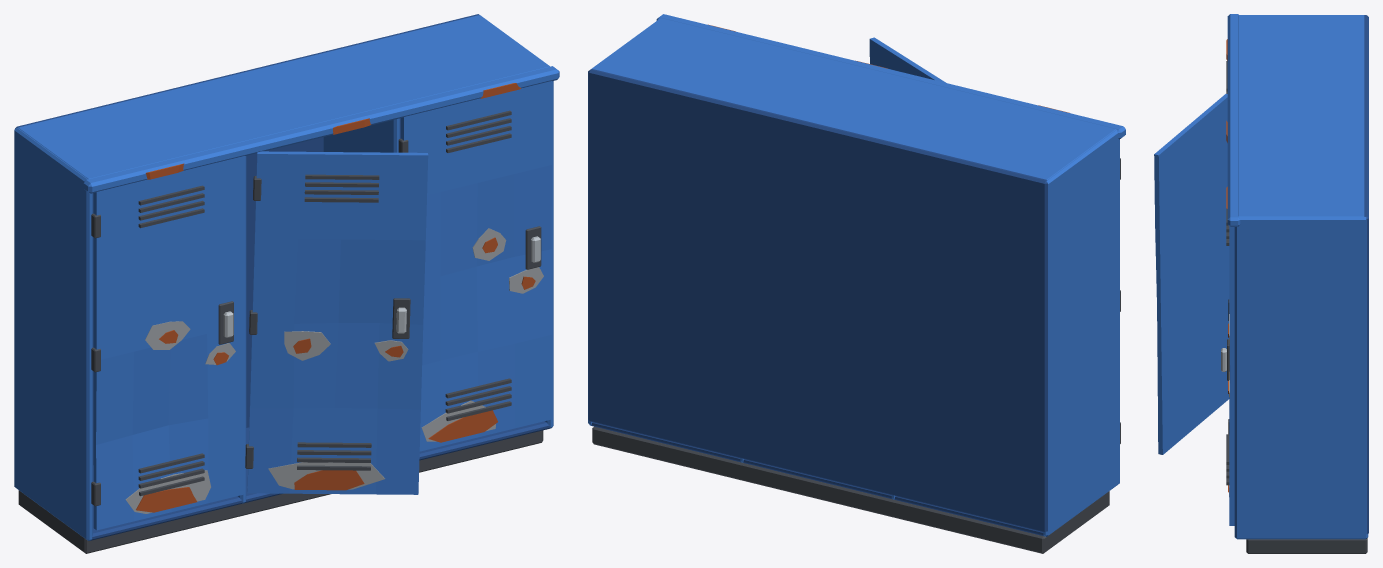
File: rusty-school-lockers.glb
3 renders of one model, left to right at view 1: azimuth 30°, elevation 25°; view 2: azimuth 150°, elevation 25°; view 3: azimuth 270°, elevation 25°, orthographic. The views are drawn at different scales.
Visible parts, largest first — view 1: Door_2, Door_1, Door_3, Top, Divider_0, TopTrim, Plinth, Back, Floor, Divider_2, Door_2_PaintPeel_Bottom, Door_2_Rust_Bottom (+7 smaller); view 2: Back, Top, Divider_0, Plinth, TopTrim, Floor, Door_2; view 3: Divider_3, Top, Door_2, TopTrim, Back, Plinth, Door_3.
Part boxes in pixels (x1,y1,x2,y2): Door_2: [247, 151, 428, 494]; Door_1: [93, 156, 244, 530]; Door_3: [401, 81, 551, 451]; Top: [18, 15, 549, 179]; Divider_0: [14, 127, 92, 540]; TopTrim: [83, 66, 559, 193]; Plinth: [18, 430, 543, 553]; Back: [14, 14, 479, 465]; Floor: [90, 421, 549, 540]; Divider_2: [323, 118, 399, 152]; Door_2_PaintPeel_Bottom: [268, 462, 384, 489]; Door_2_Rust_Bottom: [294, 470, 364, 490]; Back: [588, 69, 1047, 531]; Top: [592, 18, 1115, 179]; Divider_0: [1043, 129, 1119, 536]; Plinth: [592, 426, 1109, 553]; TopTrim: [656, 14, 1125, 139]; Floor: [591, 422, 1044, 536]; Door_2: [869, 37, 945, 82]; Divider_3: [1234, 216, 1368, 539]; Top: [1238, 15, 1364, 216]; Door_2: [1154, 94, 1229, 454]; TopTrim: [1227, 14, 1240, 226]; Back: [1364, 15, 1368, 533]; Plinth: [1246, 538, 1367, 553]; Door_3: [1229, 226, 1234, 525].
Bounding box in the file's own units: 11.05 × 8.5 × 4.88.
